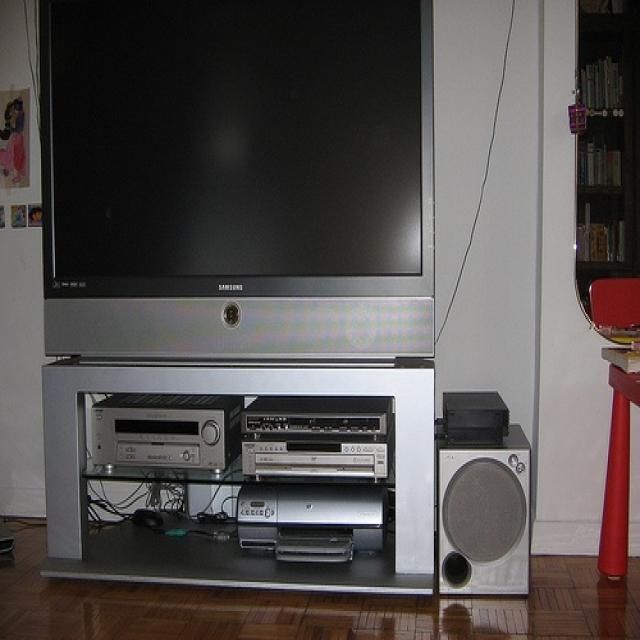tvmonitor: (43, 1, 436, 363)
